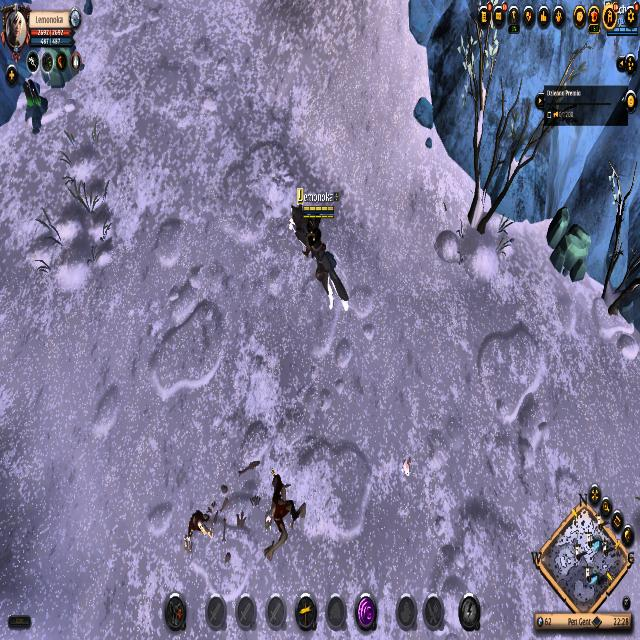ore tier 3: (21, 76, 50, 130)
rock tier 3: (546, 204, 594, 284)
